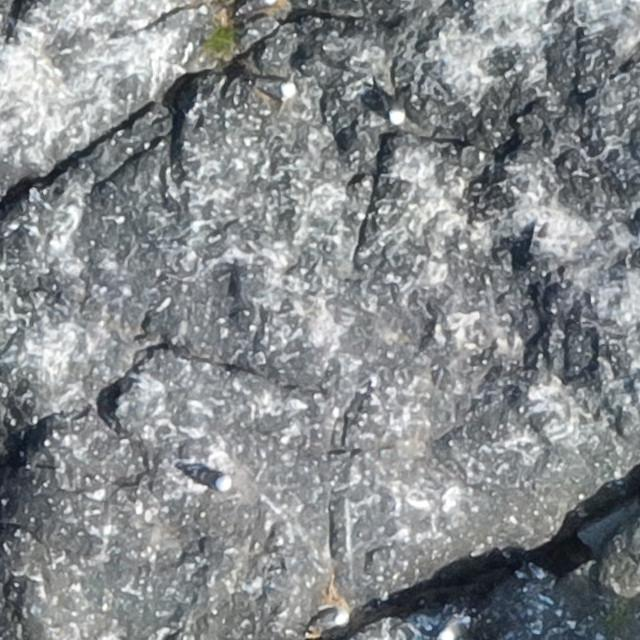umineko: (186, 468, 230, 490), (255, 80, 294, 98), (313, 610, 347, 628), (389, 91, 405, 123)
